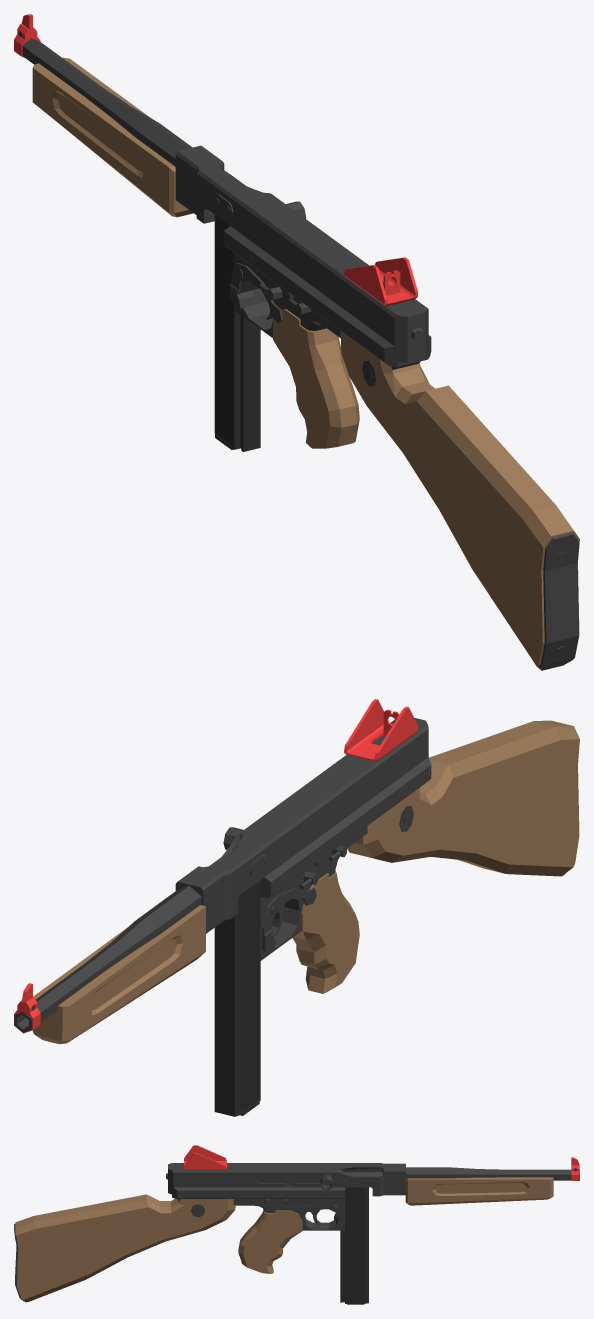
Rendered from subfusil_7.glb.
3 renders of one model, top to bottom at view 1: azimuth 30°, elevation 25°; view 2: azimuth 150°, elevation 25°; view 3: azimuth 270°, elevation 25°, orthographic. The views are drawn at different scales.
Visible parts, largest first — view 1: p27_accent, p4_paint, p35_mag, p3_accent, p20_accent, p32_paint, p0_paint, p28_del, p10_paint, p9_paint, p11_paint; view 2: p27_accent, p4_paint, p35_mag, p3_accent, p20_accent, p0_paint, p28_del, p10_paint, p9_paint, p11_paint, p1_del; view 3: p27_accent, p4_paint, p3_accent, p35_mag, p20_accent, p0_paint, p10_paint, p9_paint, p28_del, p12_paint, p16_paint.
Part boxes in pixels (x1,y1,x2,y2): p27_accent: [340, 331, 579, 668]; p4_paint: [175, 145, 431, 362]; p35_mag: [214, 215, 260, 451]; p3_accent: [32, 57, 193, 217]; p20_accent: [273, 309, 359, 448]; p32_paint: [538, 533, 579, 670]; p0_paint: [22, 38, 192, 167]; p28_del: [344, 257, 417, 306]; p10_paint: [234, 253, 420, 369]; p9_paint: [224, 242, 431, 366]; p11_paint: [230, 263, 283, 322]; p27_accent: [347, 720, 579, 876]; p4_paint: [175, 718, 431, 933]; p35_mag: [214, 880, 260, 1116]; p3_accent: [32, 905, 205, 1044]; p20_accent: [293, 870, 359, 993]; p0_paint: [14, 886, 201, 1032]; p28_del: [344, 699, 417, 761]; p10_paint: [260, 787, 419, 960]; p9_paint: [260, 769, 431, 898]; p11_paint: [262, 888, 316, 951]; p1_del: [14, 983, 40, 1033]; p27_accent: [15, 1194, 235, 1301]; p4_paint: [168, 1163, 405, 1196]; p3_accent: [405, 1177, 553, 1205]; p35_mag: [340, 1187, 368, 1304]; p20_accent: [238, 1209, 302, 1273]; p0_paint: [406, 1167, 579, 1180]; p10_paint: [177, 1199, 344, 1230]; p9_paint: [172, 1190, 344, 1198]; p28_del: [184, 1145, 226, 1170]; p12_paint: [256, 1176, 321, 1186]; p16_paint: [264, 1199, 328, 1209].
Bounding box in the file's own units: 0.0511 × 0.2405 × 0.813.
